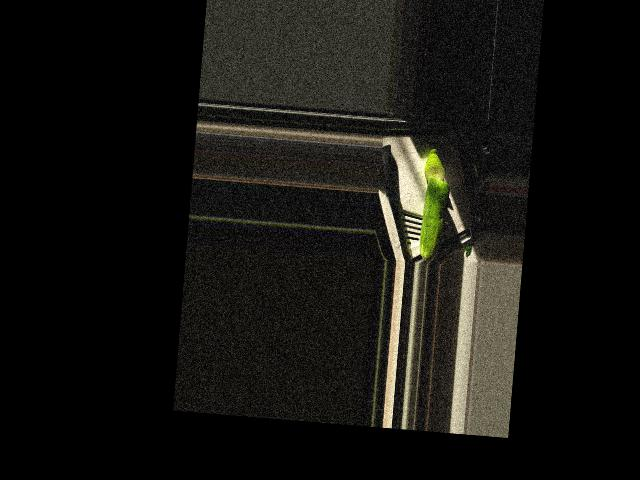cucumber: (417, 176, 450, 262)
